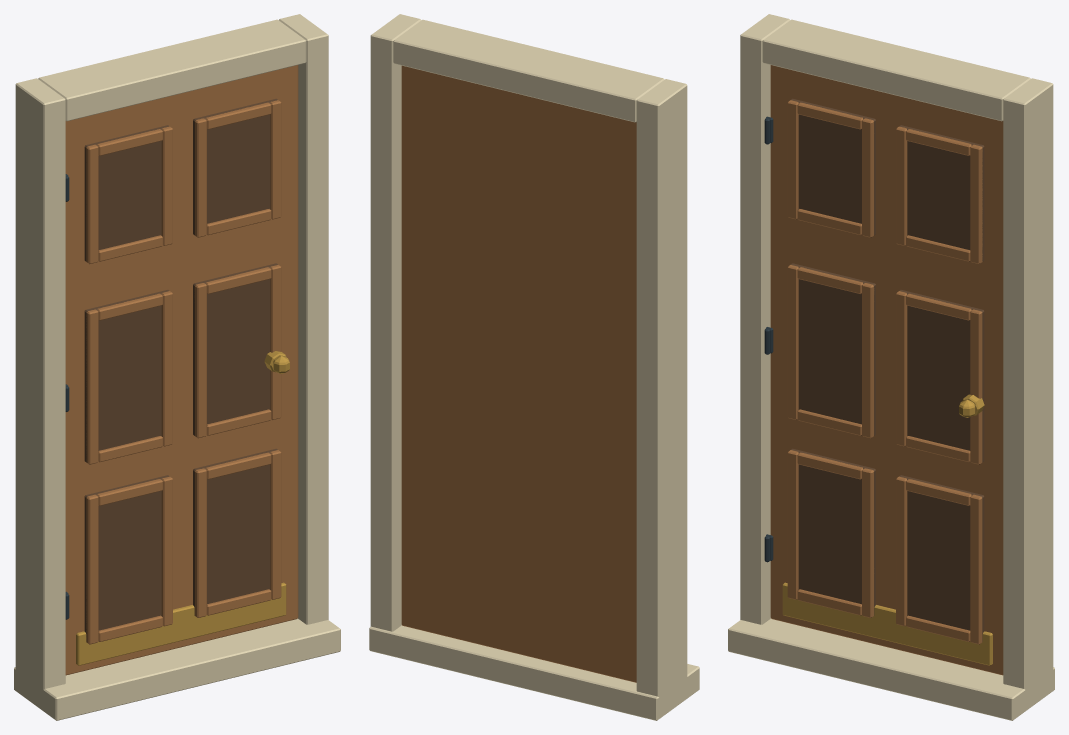
The model's file is b12_six_panel_front_door.glb.
The picture shows the model from 3 angles, left to right: view 1: azimuth 30°, elevation 25°; view 2: azimuth 150°, elevation 25°; view 3: azimuth 330°, elevation 25°; orthographic projection.
Visible parts, largest first — view 1: b12_six_panel_front_door; view 2: b12_six_panel_front_door; view 3: b12_six_panel_front_door.
Boxes of the visible parts, box(x1,y1,x2,y2) form: b12_six_panel_front_door: box(14, 14, 340, 720); b12_six_panel_front_door: box(369, 14, 699, 720); b12_six_panel_front_door: box(728, 14, 1054, 720).
Bounding box in the file's own units: 1.08 × 2.2 × 0.28.
